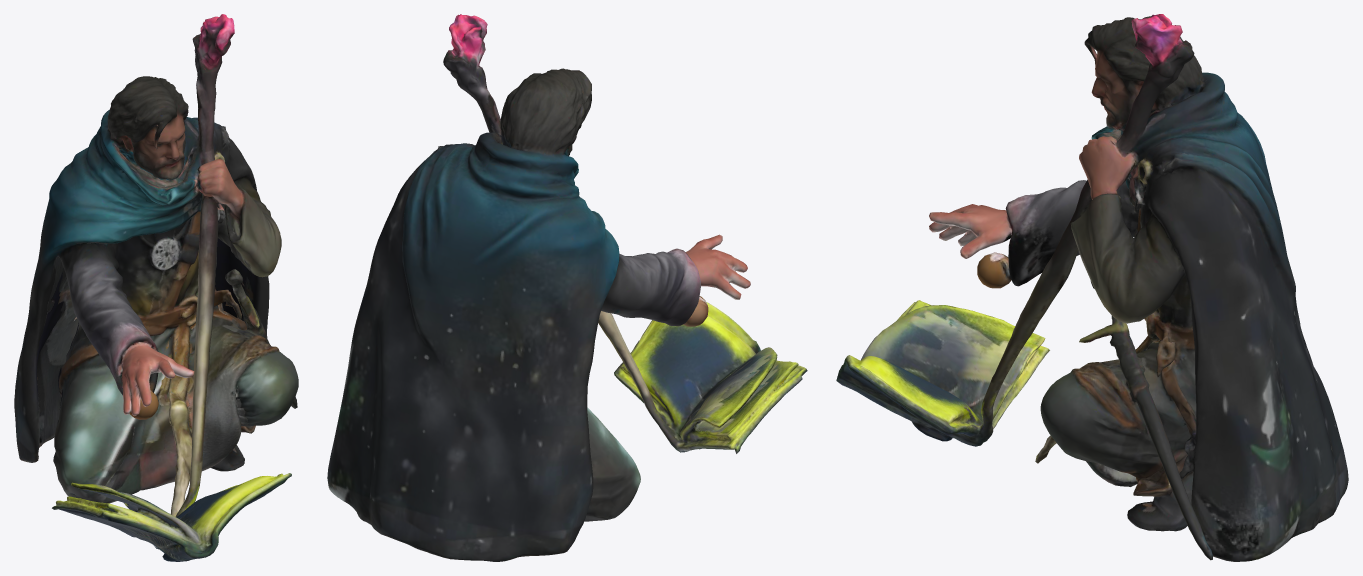
The model's file is Kayser.glb.
3 views of the same model, side by side, from view 1: azimuth 30°, elevation 25°; view 2: azimuth 150°, elevation 25°; view 3: azimuth 270°, elevation 25° (orthographic). The views are drawn at different scales.
Parts seen in each view (by area): view 1: Mesh1.0; view 2: Mesh1.0; view 3: Mesh1.0.
Part boxes in pixels (box(x1,y1,x2,y2)): Mesh1.0: box(14, 14, 298, 561); Mesh1.0: box(327, 14, 807, 561); Mesh1.0: box(836, 14, 1348, 561).
Bounding box in the file's own units: 1.46 × 1.91 × 1.76.
1 material, 1 textured.
